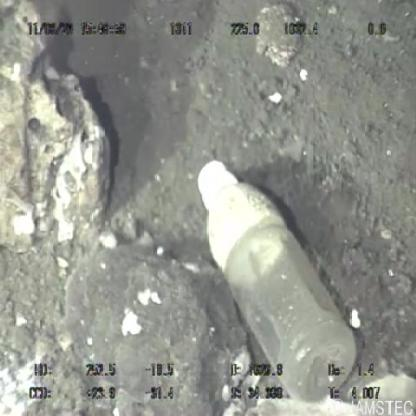Rác: (195, 155, 360, 406)
